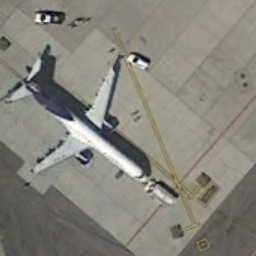Airplane: (2, 33, 168, 197)
